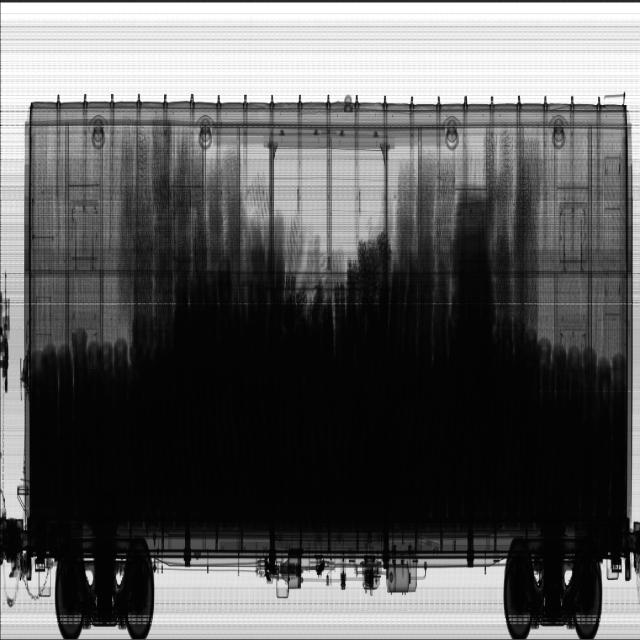office supplies: (188, 228, 259, 315)
textiles: (19, 328, 86, 401)
